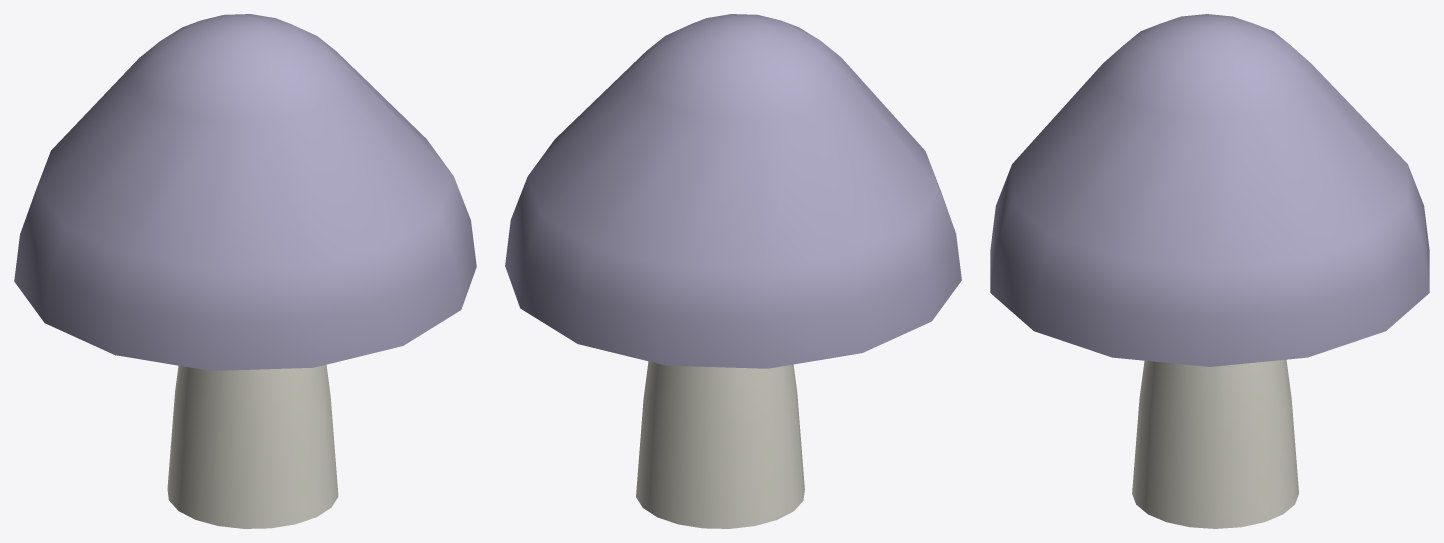
Rendered from MushroomPaarsMiddel.fbx.
The picture shows the model from 3 angles, left to right: view 1: azimuth 30°, elevation 25°; view 2: azimuth 150°, elevation 25°; view 3: azimuth 270°, elevation 25°; orthographic projection. The views are drawn at different scales.
Visible parts, largest first — view 1: polySurface3398; view 2: polySurface3398; view 3: polySurface3398.
Part boxes in pixels (x1,y1,x2,y2): polySurface3398: [14, 14, 476, 528]; polySurface3398: [505, 14, 961, 528]; polySurface3398: [990, 14, 1429, 528].
Bounding box in the file's own units: 0.0878 × 0.0988 × 0.0856.
